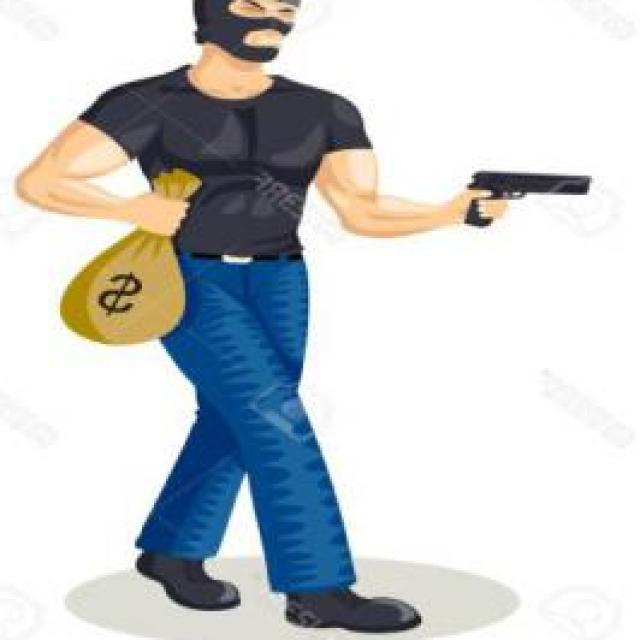pistol: (460, 168, 594, 228)
